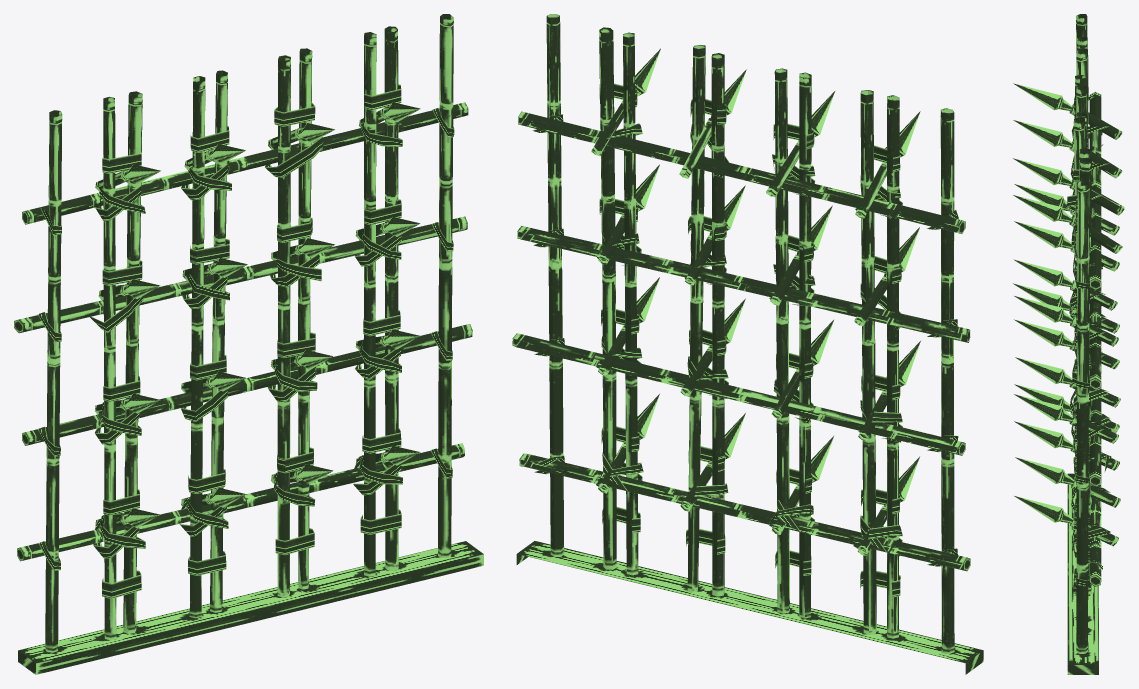
File: bl0181-color.glb
The picture shows the model from 3 angles, left to right: view 1: azimuth 30°, elevation 25°; view 2: azimuth 150°, elevation 25°; view 3: azimuth 270°, elevation 25°; orthographic projection. The views are drawn at different scales.
Parts seen in each view (by area): view 1: takekabe_SH_KG; view 2: takekabe_SH_KG; view 3: takekabe_SH_KG.
Boxes of the visible parts, <box> form: takekabe_SH_KG: <box>14,14,483,674</box>; takekabe_SH_KG: <box>512,14,983,674</box>; takekabe_SH_KG: <box>1013,14,1124,674</box>.
Size of the model in its own units: 5.14 by 5.97 by 1.26.
1 material, 1 textured.
